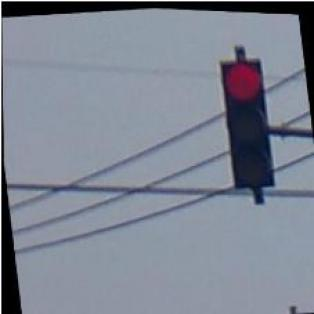Semaforo Rojo: (216, 53, 278, 190)
